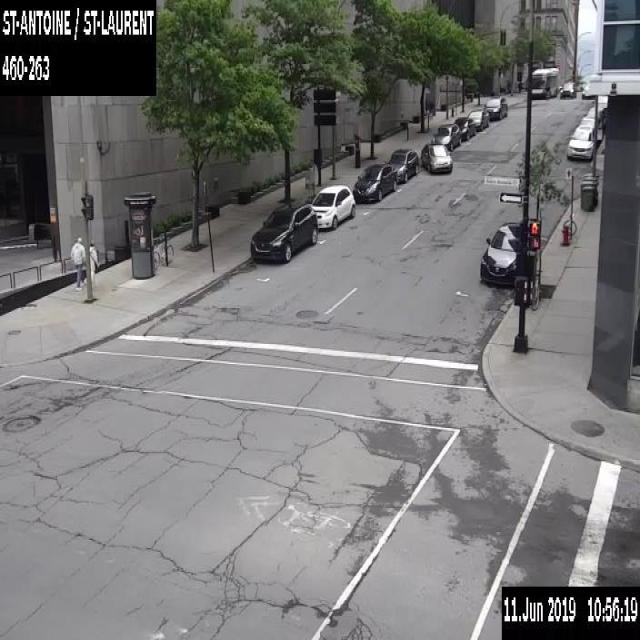bus: (531, 66, 559, 96)
pedestrian: (70, 235, 85, 289), (88, 238, 99, 286), (520, 80, 523, 94)
vehicle: (250, 202, 317, 260), (478, 218, 520, 286), (310, 184, 354, 229), (352, 162, 396, 202), (386, 147, 419, 182), (420, 142, 452, 172), (566, 125, 594, 157), (431, 122, 462, 150), (483, 95, 507, 119), (579, 115, 602, 139), (453, 116, 475, 139), (467, 108, 489, 130), (586, 105, 605, 128), (558, 81, 576, 98), (580, 81, 594, 99)
